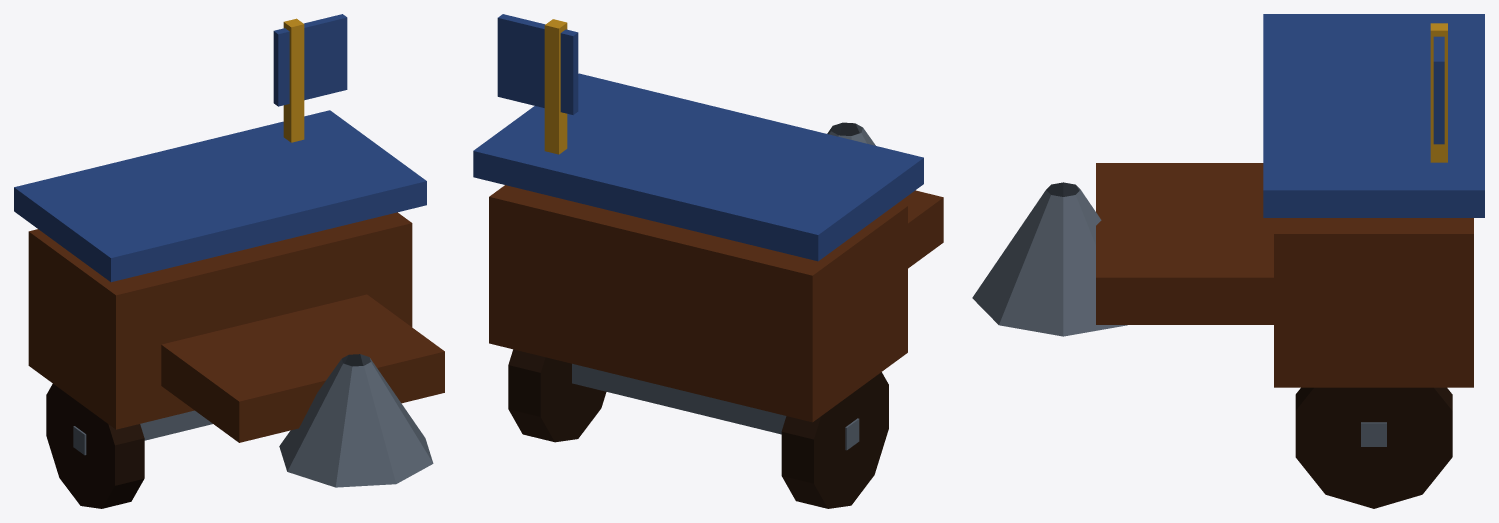
The model's file is BatteringRam_authoring.obj.
3 views of the same model, side by side, from view 1: azimuth 30°, elevation 25°; view 2: azimuth 150°, elevation 25°; view 3: azimuth 270°, elevation 25° (orthographic). The views are drawn at different scales.
Visible parts, largest first — view 1: Frame, Roof, RamBeam, RamHead, Wheel_L, BannerCloth, Banner, WheelAxle; view 2: Frame, Roof, Wheel_L, Wheel_R, BannerCloth, WheelAxle, Banner, RamBeam, RamHead; view 3: Roof, Frame, RamBeam, Wheel_R, RamHead, Banner, BannerCloth, WheelAxle.
Boxes of the visible parts, <box> form: Frame: <box>28,212,412,429</box>; Roof: <box>14,110,426,282</box>; RamBeam: <box>161,294,444,442</box>; RamHead: <box>279,354,433,487</box>; Wheel_L: <box>46,384,144,508</box>; BannerCloth: <box>273,14,347,106</box>; Banner: <box>283,18,304,142</box>; WheelAxle: <box>73,410,212,455</box>; Frame: <box>489,185,907,422</box>; Roof: <box>473,73,923,261</box>; Wheel_L: <box>781,372,888,508</box>; Wheel_R: <box>508,349,606,442</box>; BannerCloth: <box>497,14,578,114</box>; WheelAxle: <box>572,363,859,450</box>; Banner: <box>544,19,567,154</box>; RamBeam: <box>898,190,943,268</box>; RamHead: <box>827,122,875,145</box>; Roof: <box>1263,14,1484,217</box>; Frame: <box>1274,218,1473,387</box>; RamBeam: <box>1096,163,1273,324</box>; Wheel_R: <box>1295,387,1452,508</box>; RamHead: <box>972,182,1127,336</box>; Banner: <box>1430,23,1447,162</box>; BannerCloth: <box>1433,23,1444,144</box>; WheelAxle: <box>1361,422,1386,446</box>.
Size of the model in its own units: 1.92 by 2.34 by 2.36.
